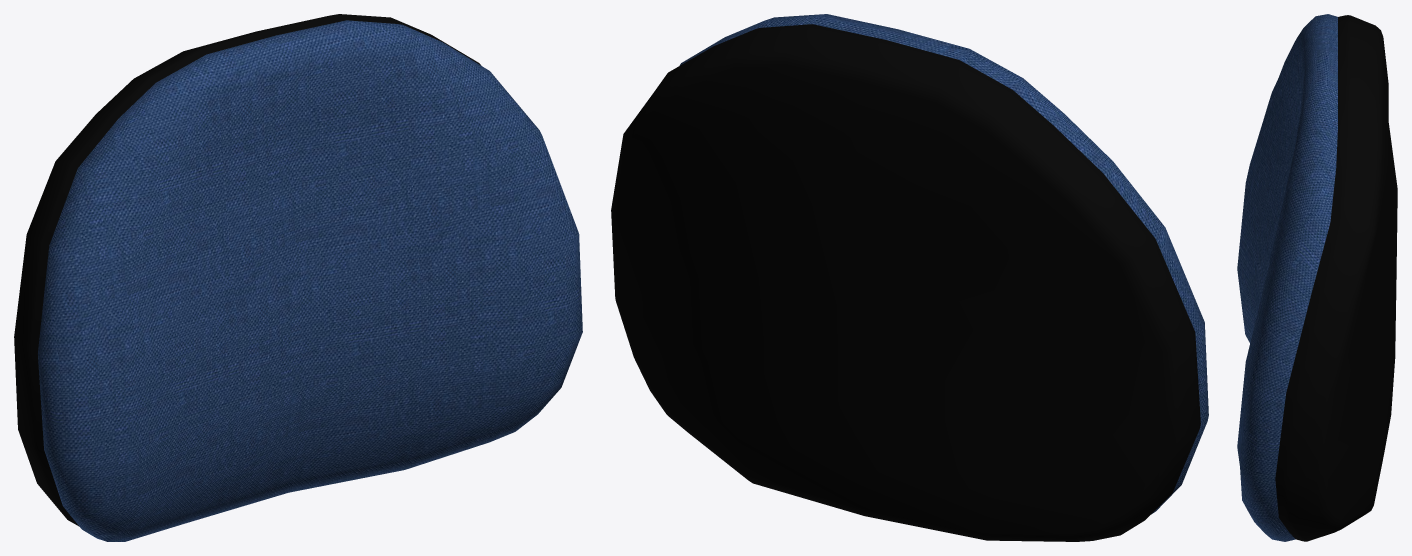
The picture shows the model from 3 angles, left to right: view 1: azimuth 30°, elevation 25°; view 2: azimuth 150°, elevation 25°; view 3: azimuth 270°, elevation 25°; orthographic projection. The views are drawn at different scales.
Parts seen in each view (by area): view 1: part19:backrest (×2); view 2: part19:backrest (×2); view 3: part19:backrest (×2).
Boxes of the visible parts, <box> form: part19:backrest (×2): <box>14,14,582,541</box>; part19:backrest (×2): <box>611,14,1208,541</box>; part19:backrest (×2): <box>1237,14,1397,541</box>.
Bounding box in the file's own units: 0.3675 × 0.2949 × 0.1015.
Materials: 2 (1 with a texture image).
